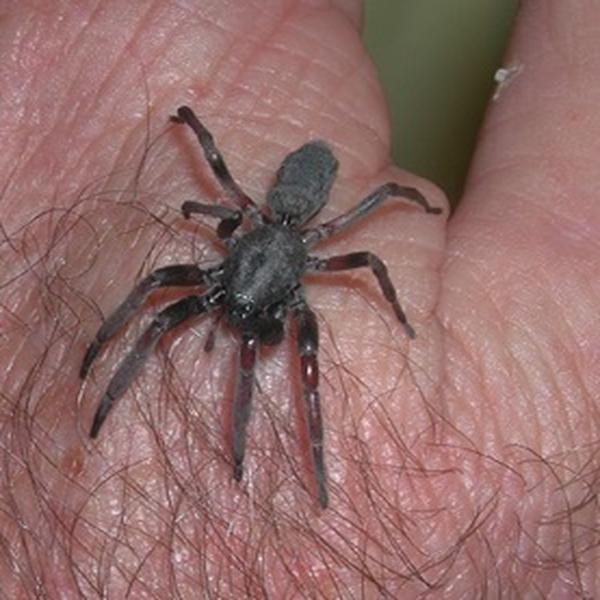White-Tailed Spider: (92, 110, 436, 507)
